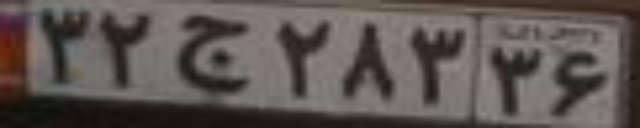2: (271, 18, 331, 97), (96, 13, 150, 88)
3: (407, 26, 466, 104), (484, 45, 543, 113), (38, 10, 90, 86)
6: (548, 50, 608, 116)
8: (341, 23, 396, 99)
jim: (173, 16, 250, 91)
